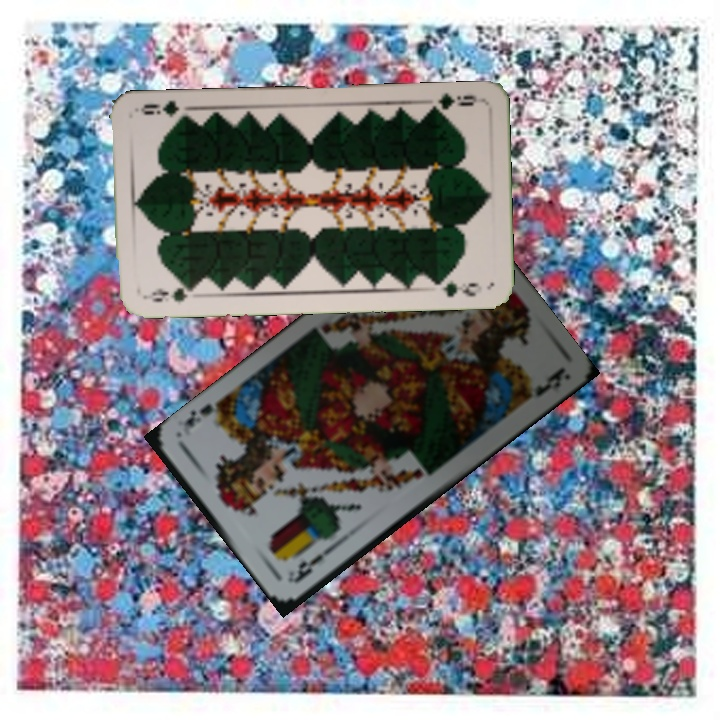EK: (290, 542, 336, 586)
G9: (424, 89, 483, 116), (139, 282, 198, 305)
